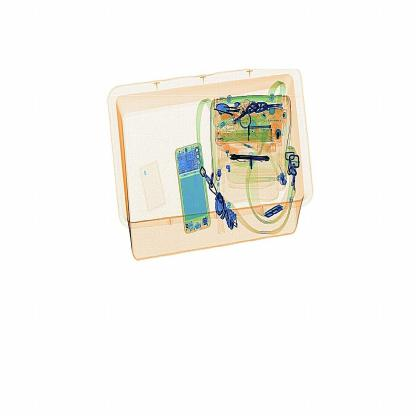knife: (228, 151, 278, 166)
